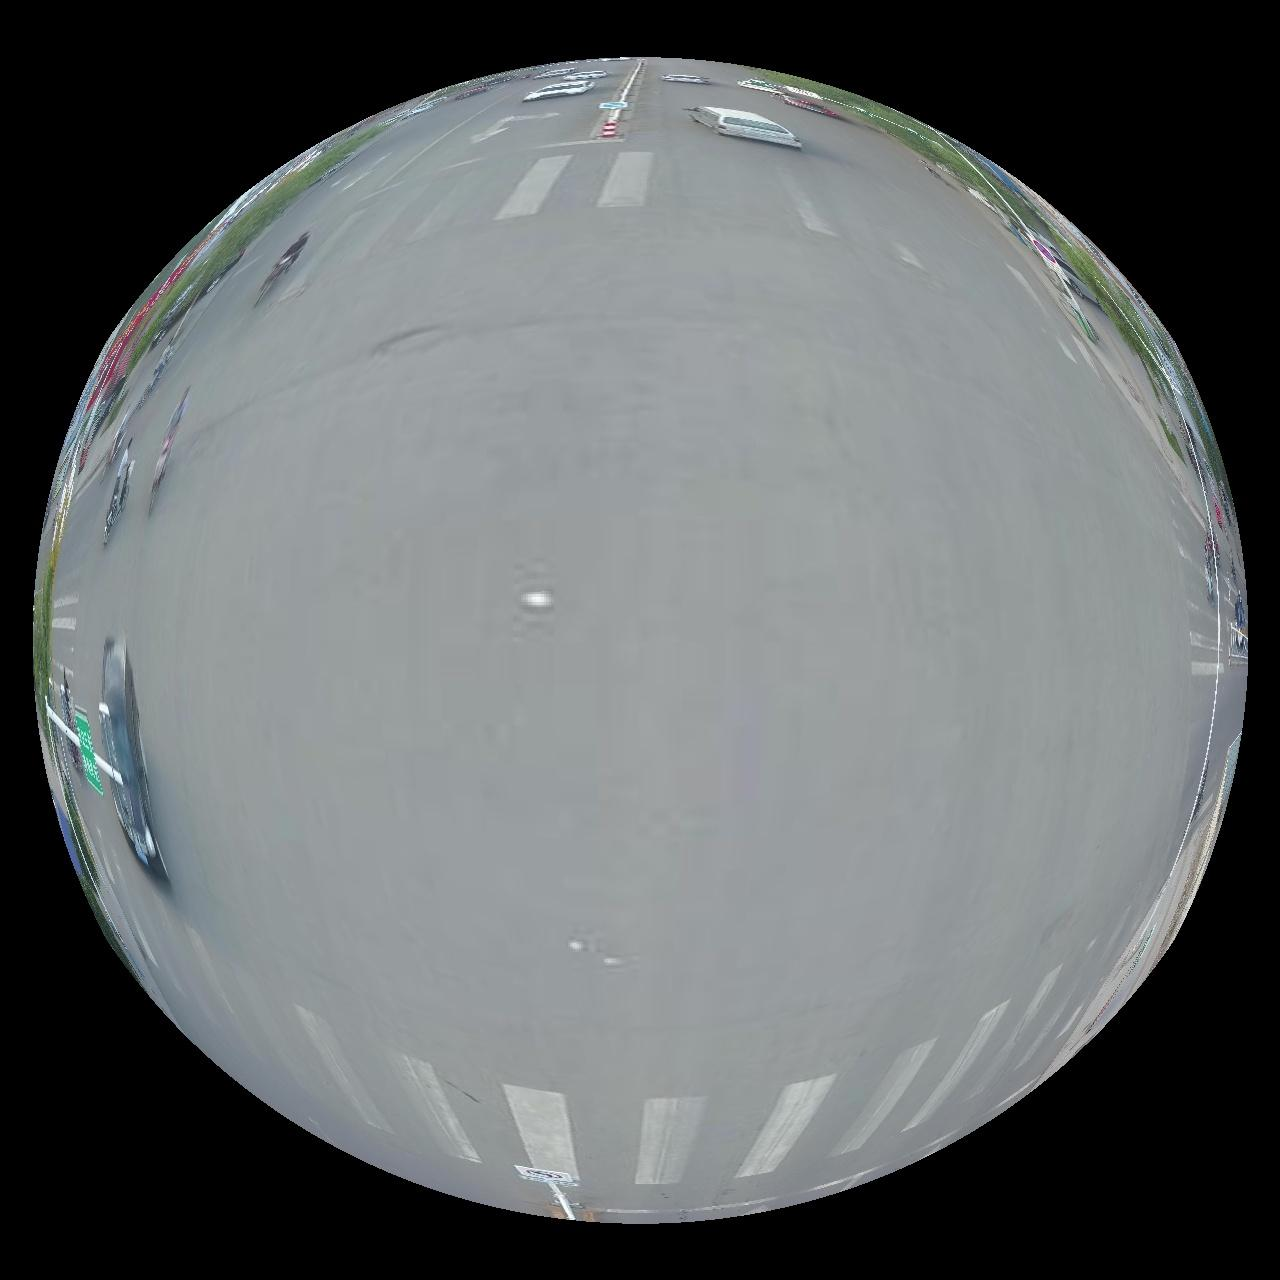cars: (97, 638, 166, 882), (689, 105, 802, 146), (523, 78, 594, 100), (663, 72, 709, 82)
